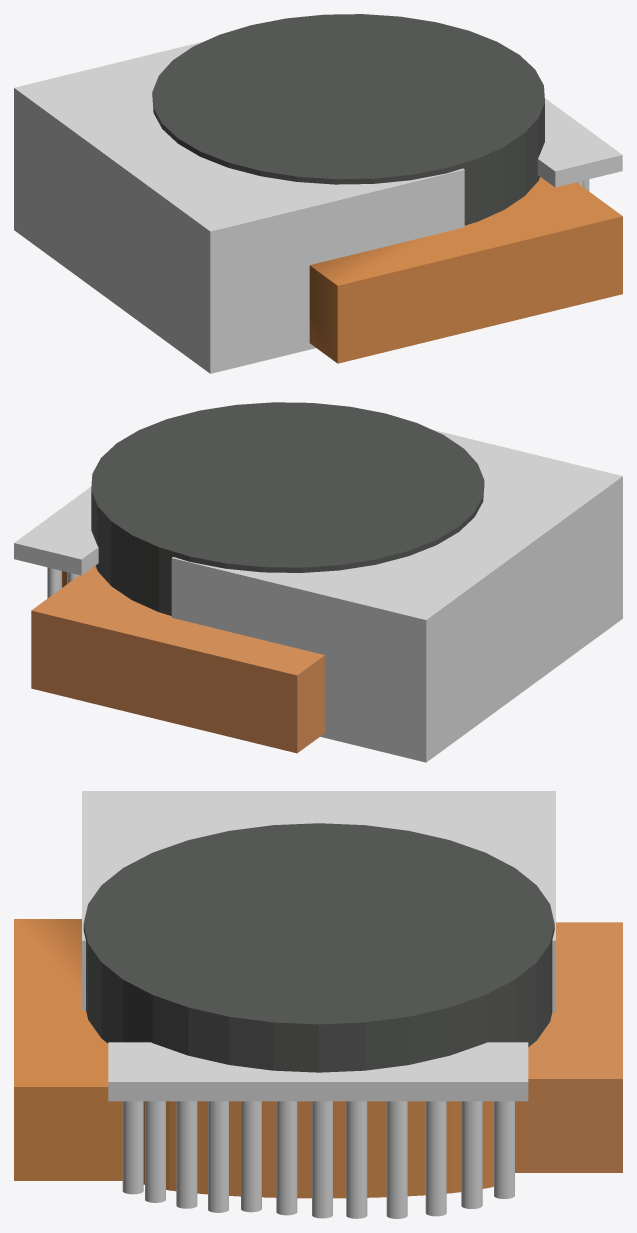
The model's file is JPJFinal5.fbx.
3 renders of one model, top to bottom at view 1: azimuth 30°, elevation 25°; view 2: azimuth 150°, elevation 25°; view 3: azimuth 270°, elevation 25°, orthographic. The views are drawn at different scales.
Parts seen in each view (by area): view 1: Cube.005, Cylinder.002, Cube.002, Cube.004; view 2: Cube.005, Cylinder.002, Cube.003, Cube.004; view 3: Cylinder.002, Cube.005, Cube.002, Cube.003, Cube.004, Cylinder.003, Cylinder.011, Cylinder.010, Cylinder.012, Cylinder.008, Cylinder.009, Cylinder.013 (+6 smaller).
Boxes of the visible parts, left/top/right/bottom form: Cube.005: left=14, top=41, right=464, bottom=373; Cylinder.002: left=152, top=14, right=544, bottom=225; Cube.002: left=309, top=177, right=622, bottom=363; Cube.004: left=537, top=98, right=622, bottom=187; Cube.005: left=171, top=429, right=622, bottom=762; Cylinder.002: left=91, top=402, right=484, bottom=615; Cube.003: left=31, top=567, right=324, bottom=753; Cube.004: left=14, top=487, right=98, bottom=575; Cylinder.002: left=83, top=823, right=554, bottom=1072; Cube.005: left=82, top=791, right=555, bottom=1012; Cube.002: left=14, top=919, right=122, bottom=1180; Cube.003: left=515, top=922, right=622, bottom=1172; Cube.004: left=108, top=1042, right=528, bottom=1101; Cylinder.003: left=143, top=1101, right=493, bottom=1198; Cylinder.011: left=386, top=1101, right=407, bottom=1218; Cylinder.010: left=346, top=1101, right=367, bottom=1218; Cylinder.012: left=425, top=1101, right=446, bottom=1216; Cylinder.008: left=276, top=1101, right=297, bottom=1215; Cylinder.009: left=312, top=1101, right=332, bottom=1218; Cylinder.013: left=461, top=1101, right=482, bottom=1208.
Size of the model in its own units: 746 by 262 by 771.
